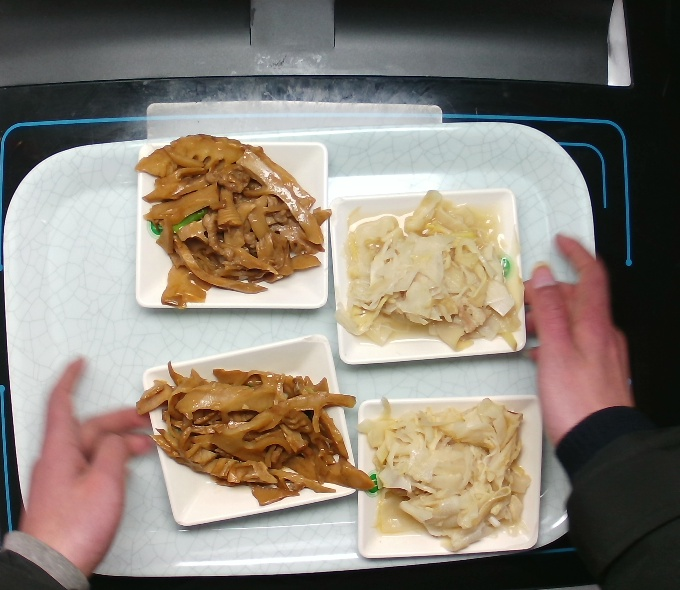wcq-LuSun: (338, 189, 525, 356), (354, 393, 529, 550)
wcq-SunGan: (141, 364, 379, 503), (136, 135, 332, 303)
